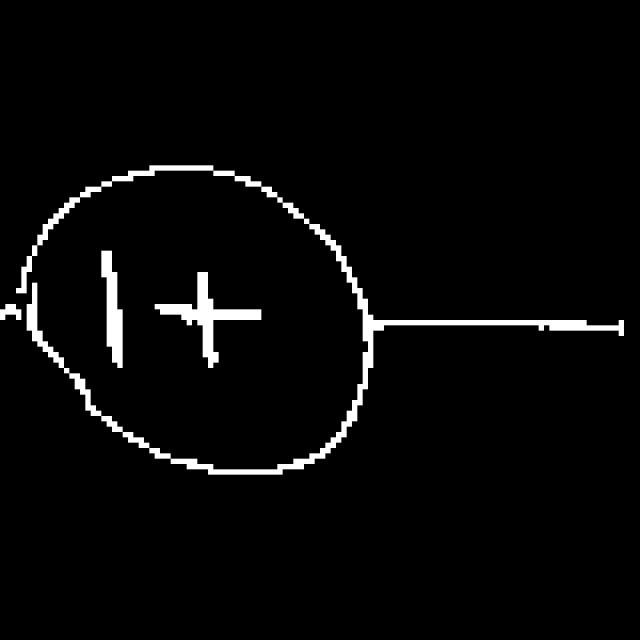voltage_source: (24, 150, 376, 485)
